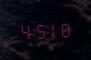five: (31, 20, 43, 40)
four: (18, 21, 30, 40)
one: (44, 20, 56, 39)
zero: (57, 19, 69, 38)
